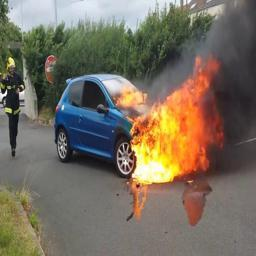fire: (119, 56, 224, 184), (114, 85, 145, 107)
